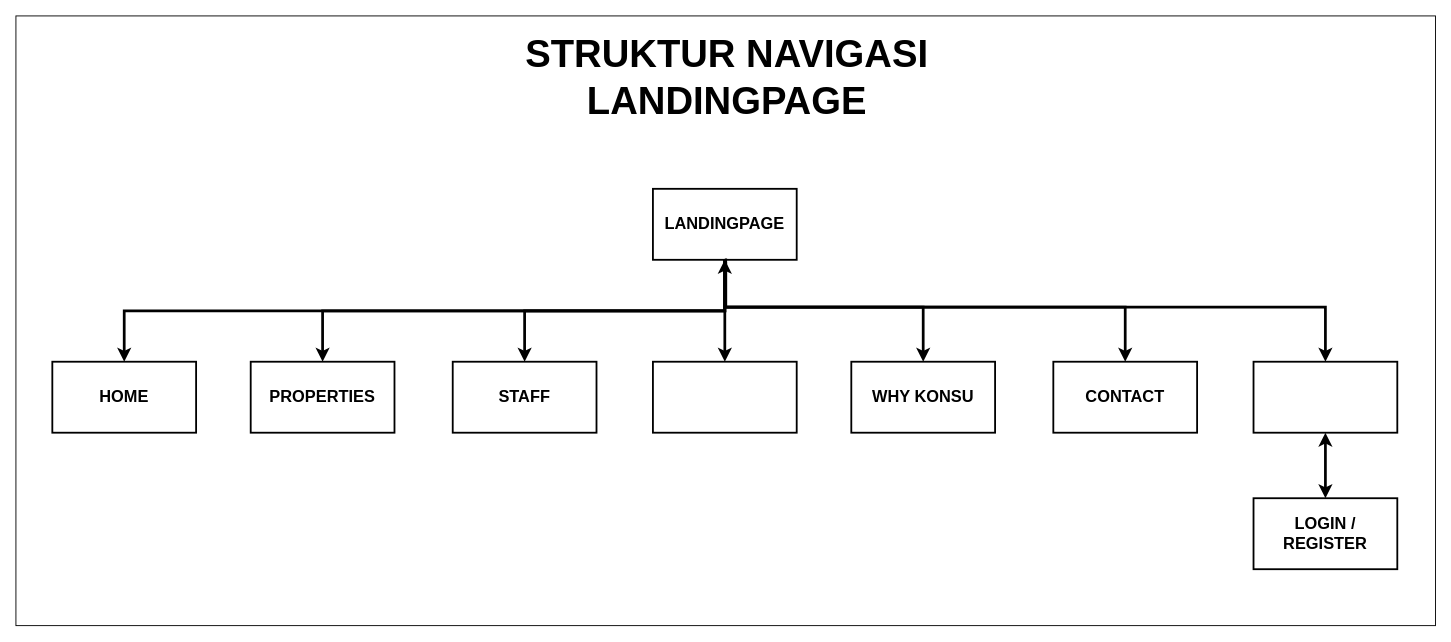
Some shapes in this 1451 by 642 pixel diagram are drawn without their labels. The box of each missing label's shape, as (x1, y1, x2, y2) in pixels:
ABOUT: (652, 360, 797, 433)
HAVE AN ACCOUT: (1252, 360, 1398, 433)
